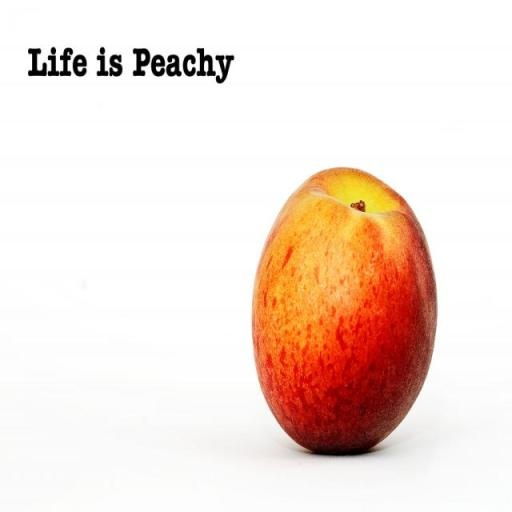fruit: (253, 168, 436, 452)
